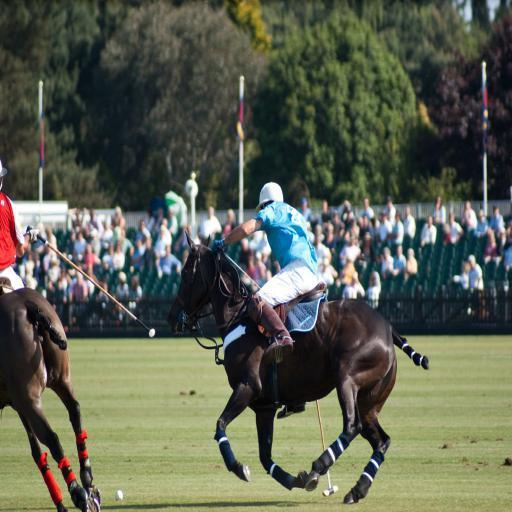horse: (166, 228, 430, 503), (0, 288, 102, 512)
